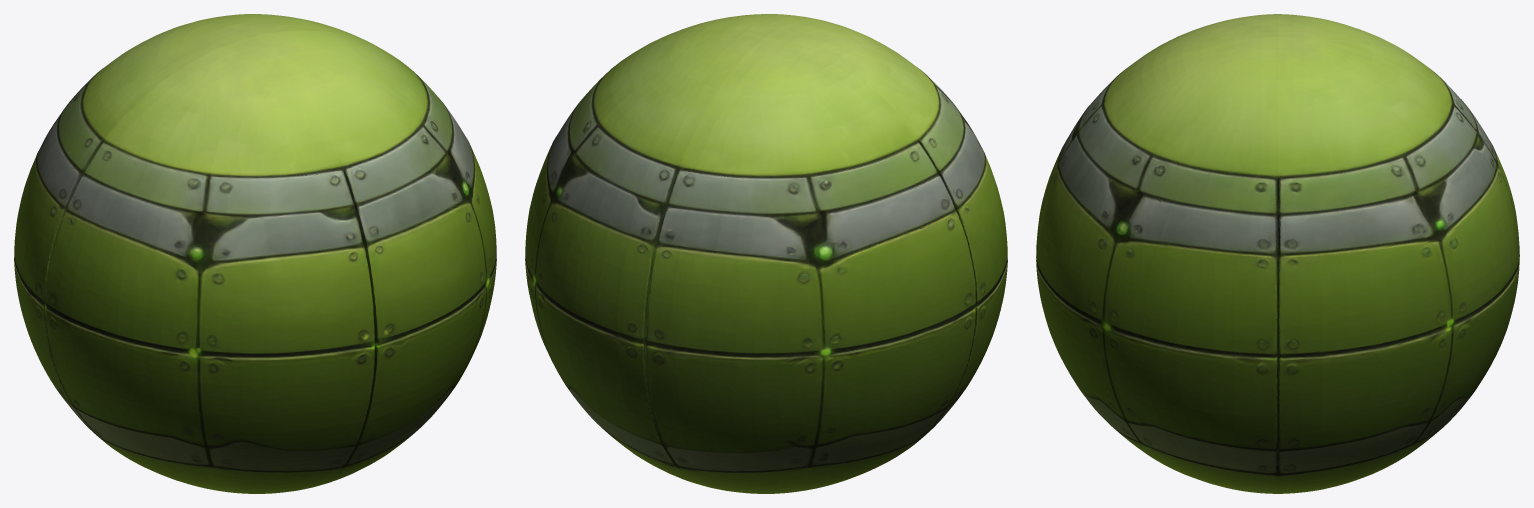
The model's file is pea.fbx.
The picture shows the model from 3 angles, left to right: view 1: azimuth 30°, elevation 25°; view 2: azimuth 150°, elevation 25°; view 3: azimuth 270°, elevation 25°; orthographic projection.
Parts seen in each view (by area): view 1: geometry_0.006; view 2: geometry_0.006; view 3: geometry_0.006.
Part boxes in pixels (x1,y1,x2,y2): geometry_0.006: [14, 14, 496, 493]; geometry_0.006: [525, 14, 1007, 493]; geometry_0.006: [1036, 14, 1519, 493].
Bounding box in the file's own units: 0.2967 × 0.2957 × 0.2936.
